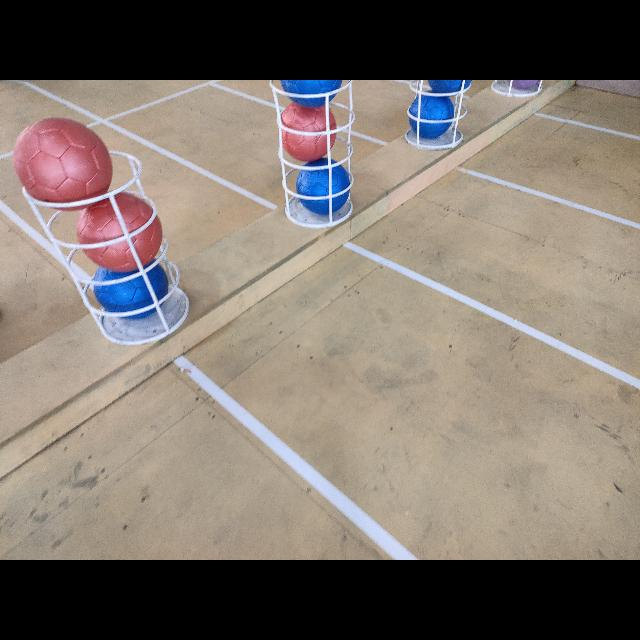B: (92, 265, 170, 319), (296, 160, 350, 218), (408, 92, 456, 140), (281, 80, 339, 108), (428, 80, 472, 98)
R: (13, 117, 111, 209), (78, 192, 162, 268), (278, 104, 336, 160)
